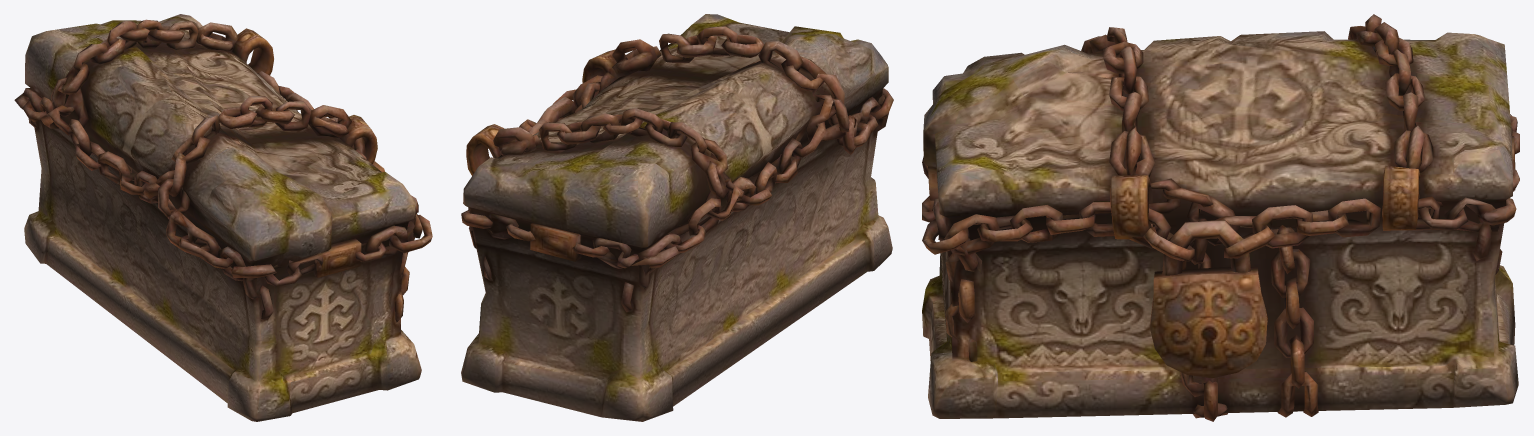
File: n_tabut.glb
3 renders of one model, left to right at view 1: azimuth 30°, elevation 25°; view 2: azimuth 150°, elevation 25°; view 3: azimuth 270°, elevation 25°, orthographic. The views are drawn at different scales.
Visible parts, largest first — view 1: tripo_node_abc1261a-1734-4b30-93c9-cba596f272e8; view 2: tripo_node_abc1261a-1734-4b30-93c9-cba596f272e8; view 3: tripo_node_abc1261a-1734-4b30-93c9-cba596f272e8.
Boxes of the visible parts, left/top/right/bottom form: tripo_node_abc1261a-1734-4b30-93c9-cba596f272e8: left=14, top=14, right=432, bottom=421; tripo_node_abc1261a-1734-4b30-93c9-cba596f272e8: left=461, top=14, right=893, bottom=421; tripo_node_abc1261a-1734-4b30-93c9-cba596f272e8: left=922, top=14, right=1519, bottom=421.
Bounding box in the file's own units: 0.6543 × 0.5996 × 0.998.
Materials: 1 (1 with a texture image).
